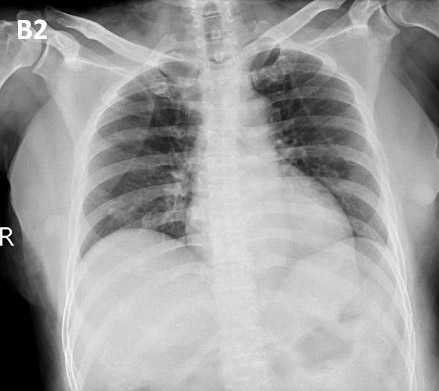Mildw: (250, 52, 386, 243), (81, 58, 205, 256)
